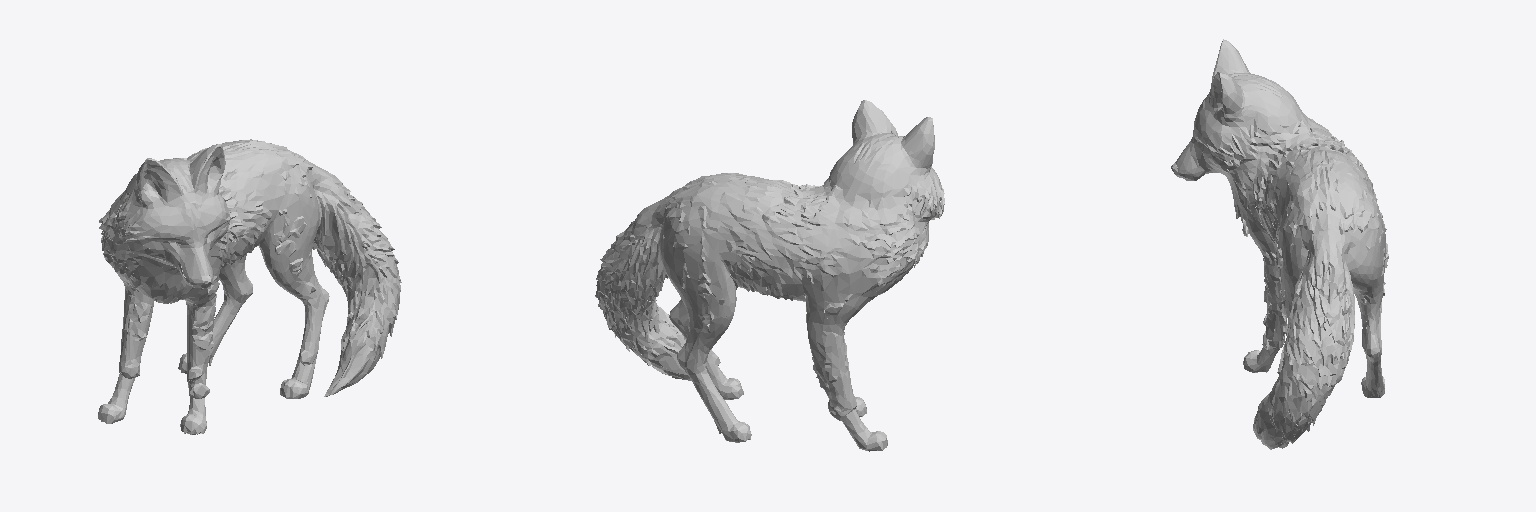
Rendered from test_final_demo.obj.
3 renders of one model, left to right at view 1: azimuth 30°, elevation 25°; view 2: azimuth 150°, elevation 25°; view 3: azimuth 270°, elevation 25°, orthographic.
Bounding box in the file's own units: 1.99 × 1.85 × 1.21.